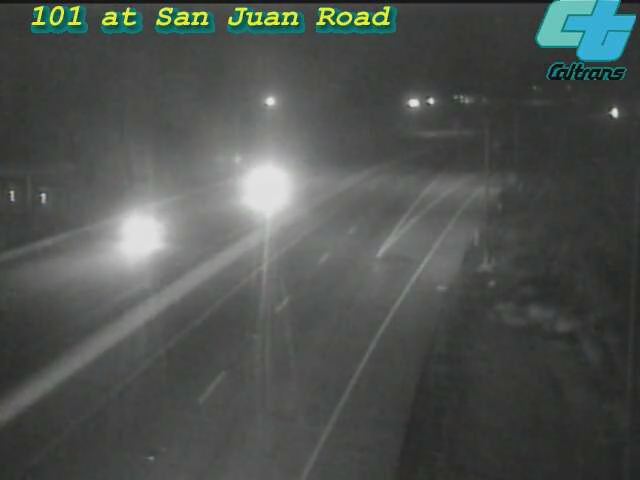vehicle: (95, 197, 175, 277), (218, 149, 298, 229), (589, 87, 639, 137)
